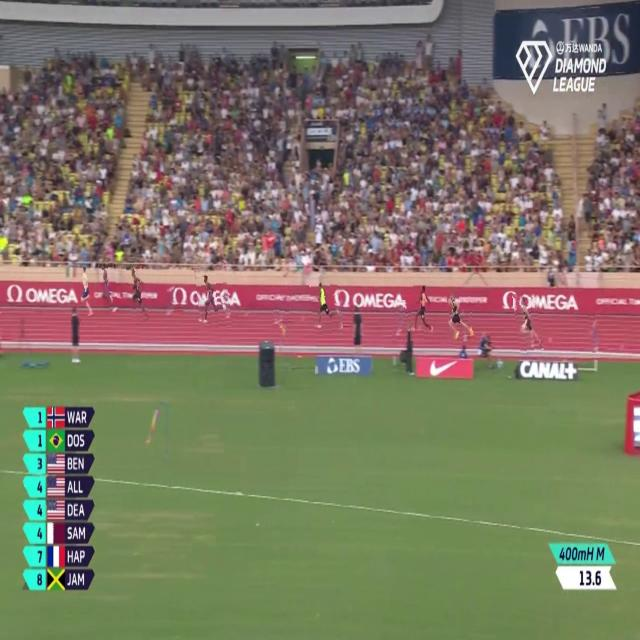athlete: (195, 264, 230, 331), (310, 275, 341, 335), (514, 291, 542, 353), (411, 280, 438, 342), (448, 289, 473, 344), (128, 264, 148, 321), (78, 262, 94, 322), (100, 263, 118, 315)
hurdle: (272, 292, 291, 328), (393, 300, 408, 343), (589, 311, 602, 354), (167, 281, 174, 315)
